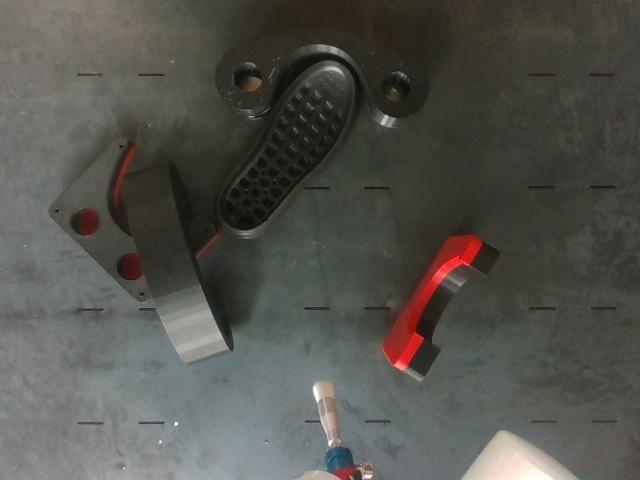shoes: (219, 61, 355, 232)
